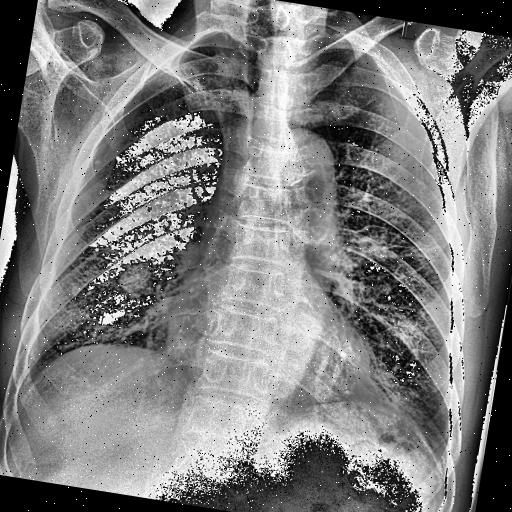0- Aortic enlargement: (184, 102, 356, 229)
5- ILD: (347, 216, 426, 281)
8- Nodule-Mass: (101, 246, 168, 314), (105, 246, 166, 306), (105, 249, 162, 304)
